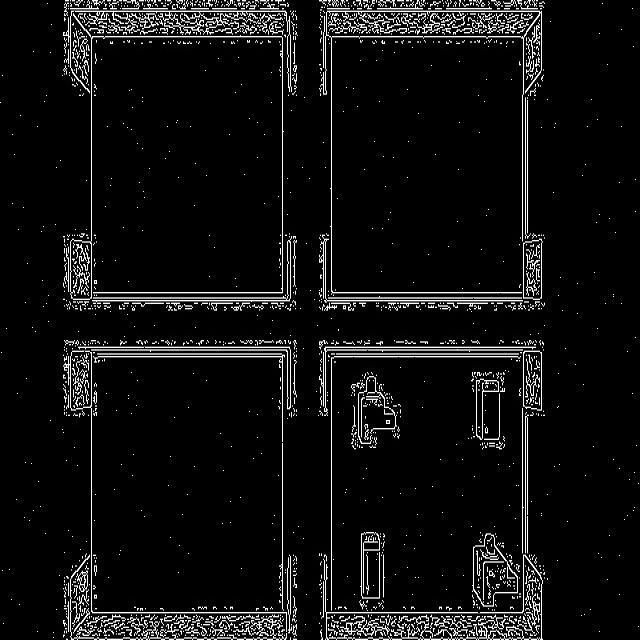Battery: (472, 372, 505, 448), (359, 533, 384, 610)
Sensor: (472, 535, 521, 610), (351, 372, 399, 448)
